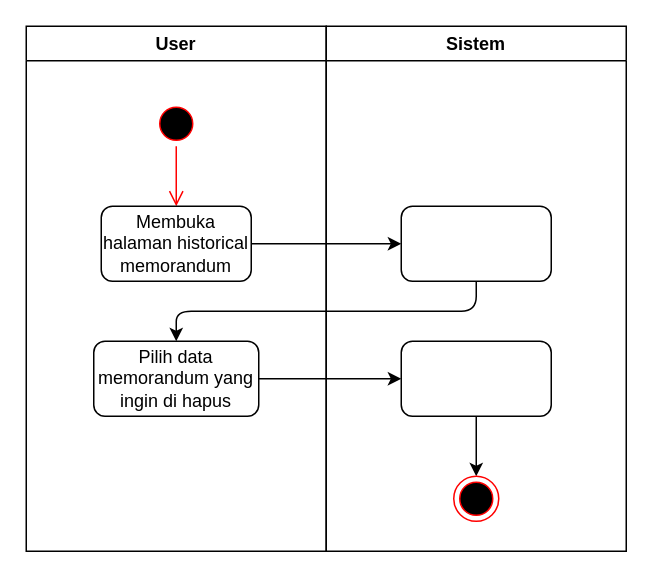
Some shapes in this 653 by 578 pixel diagram are drawn without their labels. The centre of each missing label's shape, as x and y in pixels:
"Menampilkan halaman historical memorandum" belongs at point 475,243.
"Perubahan data tersimpan" belongs at point 475,378.
